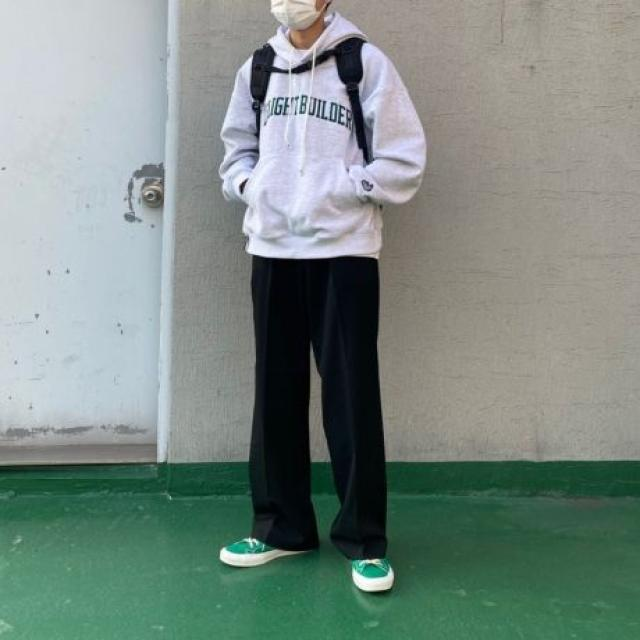hoodies: (216, 10, 424, 251)
slacks: (251, 255, 395, 560)
